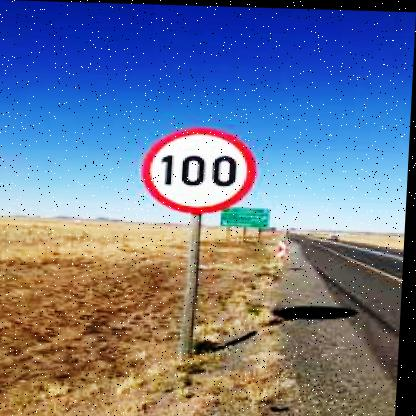Speed Limit -100-: (135, 119, 265, 215)
